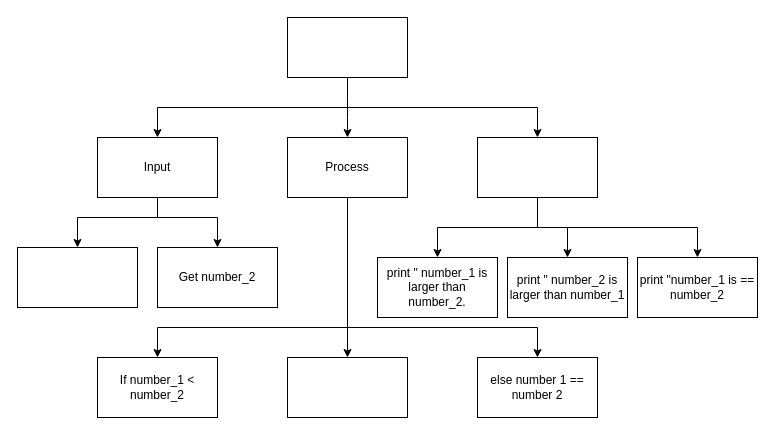
This 775x435 diagram has some shape labels left out. Each missing label, with the box of its shape:
elseIf number_1 > number_2: (286, 356, 408, 418)
Get number_1: (16, 246, 138, 308)
Output: (476, 136, 598, 198)
Pizza Total: (286, 16, 408, 78)
